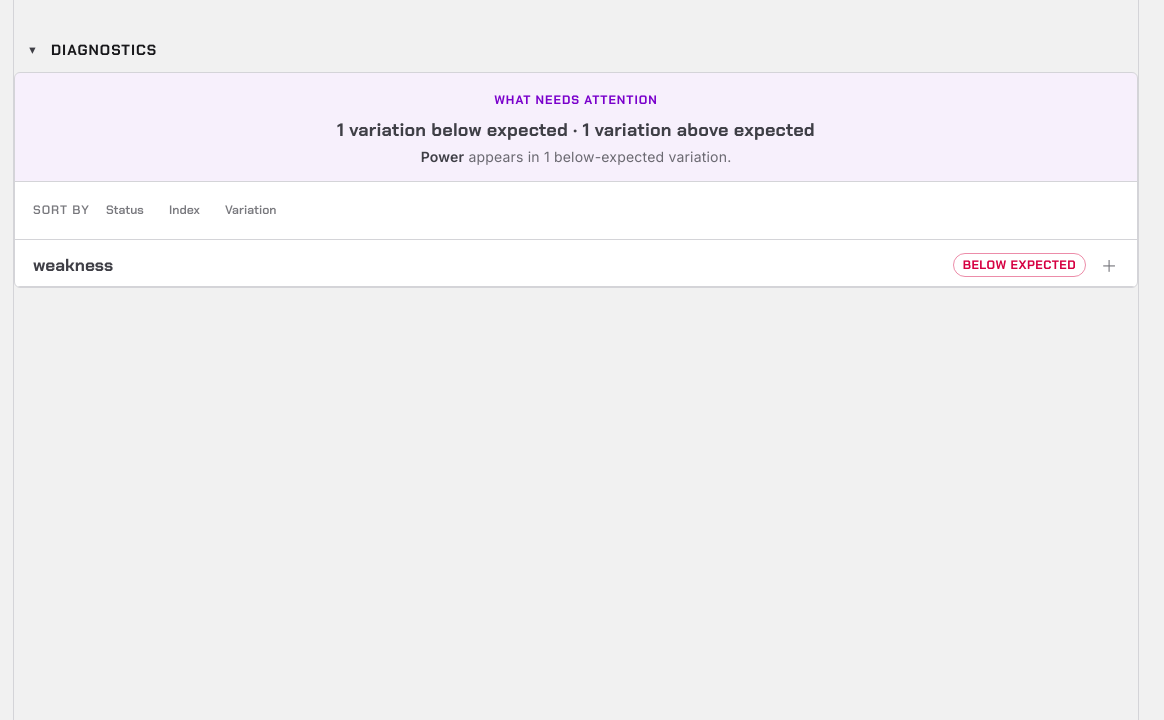
Test: DiagnosticsPanel › labels current and fitted signals independently when they disagree
The width and height of the screenshot is (1164, 720).
Click the button with aria-label "weakness: Below expected. Expand diagnostic": x=73, y=265 left=15, top=240, right=1137, bottom=286
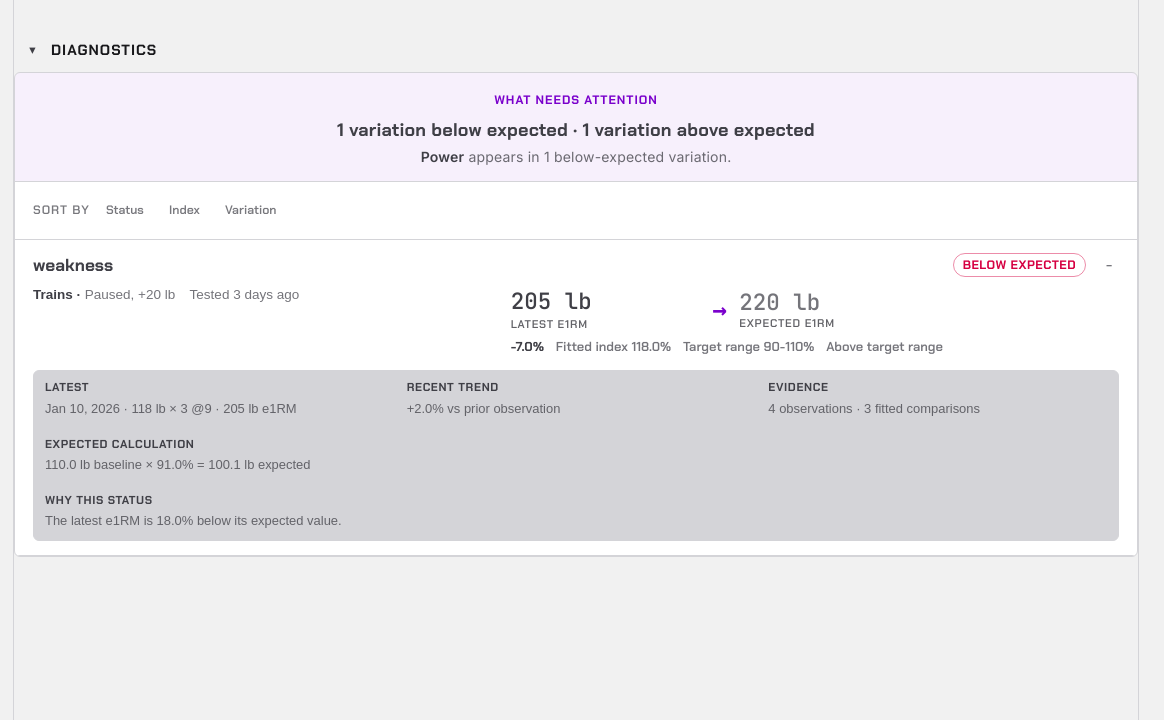
Expected: the text "205 lb" is shown, left=511, top=286, right=592, bottom=316
Expected: the text "220 lb" is shown, left=739, top=286, right=820, bottom=316
Expected: the text "-7.0%" is shown, left=511, top=338, right=544, bottom=356
